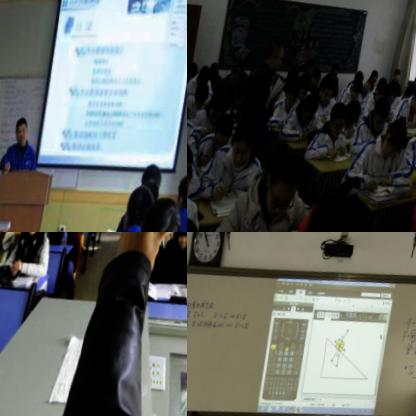head: (257, 145, 306, 227), (313, 180, 378, 232), (136, 198, 187, 232), (227, 118, 257, 170), (123, 184, 155, 232), (381, 122, 409, 168), (139, 164, 165, 203), (327, 102, 350, 144), (211, 113, 235, 153), (10, 114, 33, 155), (187, 136, 198, 219), (369, 102, 392, 141), (206, 92, 230, 129), (265, 41, 285, 77), (342, 100, 361, 135), (298, 95, 318, 128), (283, 79, 301, 112), (318, 79, 336, 109), (192, 80, 209, 110), (176, 179, 187, 218), (196, 62, 212, 87), (226, 66, 242, 90), (270, 79, 285, 104), (174, 232, 187, 260), (297, 82, 311, 104), (375, 87, 389, 109), (305, 58, 318, 80), (349, 84, 363, 104), (187, 60, 199, 83), (402, 88, 415, 109), (207, 61, 220, 81), (234, 60, 246, 80), (309, 71, 321, 91), (289, 63, 300, 84), (353, 73, 365, 90), (329, 67, 340, 85), (23, 232, 44, 241), (368, 74, 379, 91), (377, 78, 388, 94), (392, 71, 403, 87), (410, 94, 416, 123), (411, 79, 416, 98), (250, 66, 257, 79)
